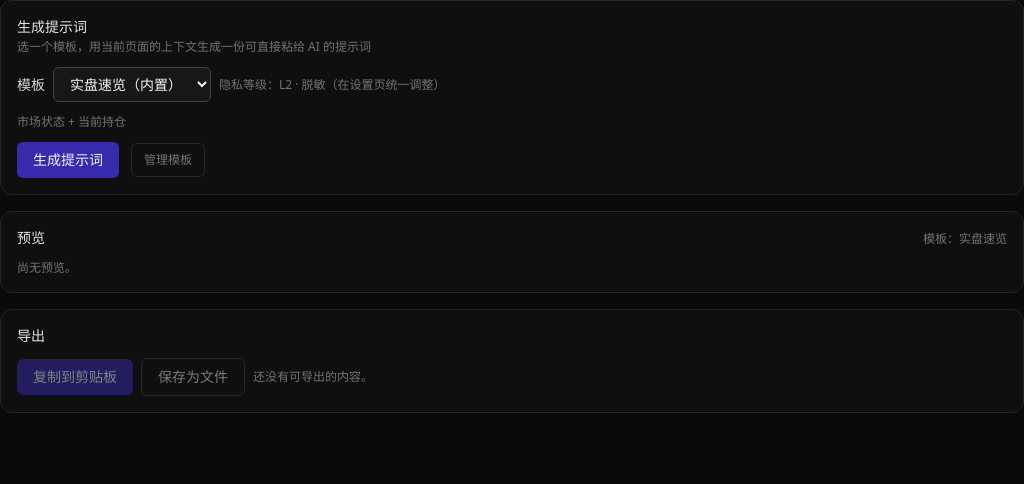
Test: PromptPanel 按需生成 › live 生成：请求带 credential_id 与 force，且不含已删除的 body
Click the button "生成提示词": (68, 160) [17, 142, 119, 178]
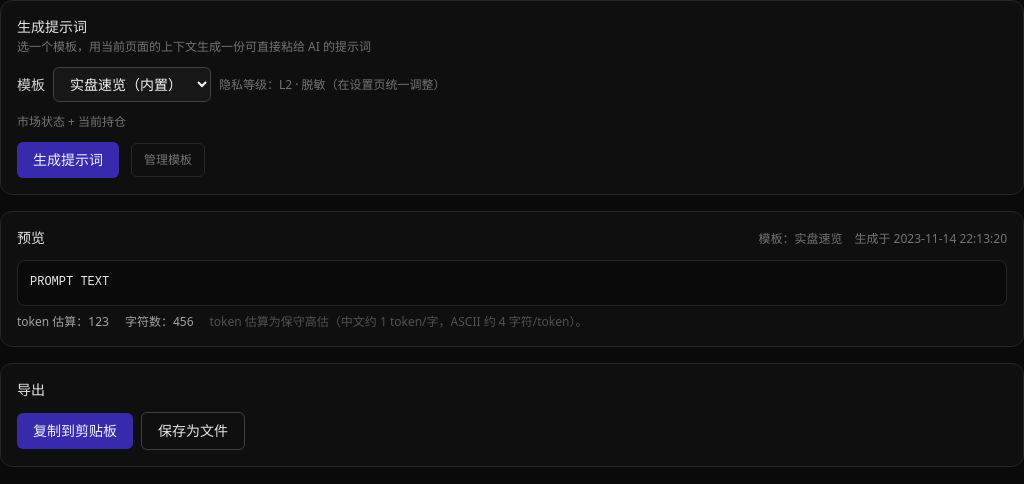
Now the text "PROMPT TEXT" is shown, box [17, 260, 1007, 306]
